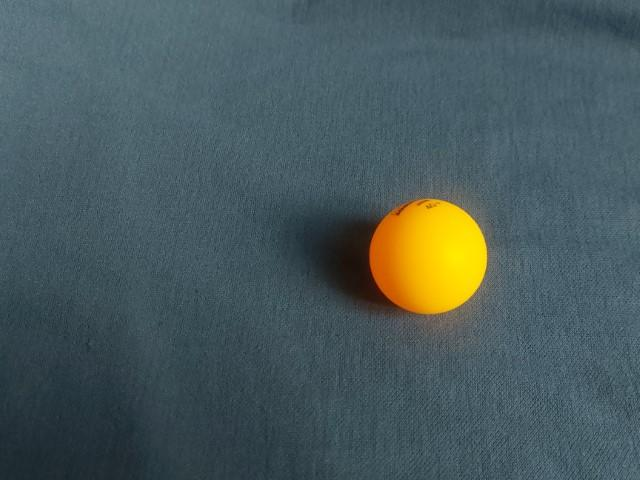oball: (144, 158, 276, 291)
